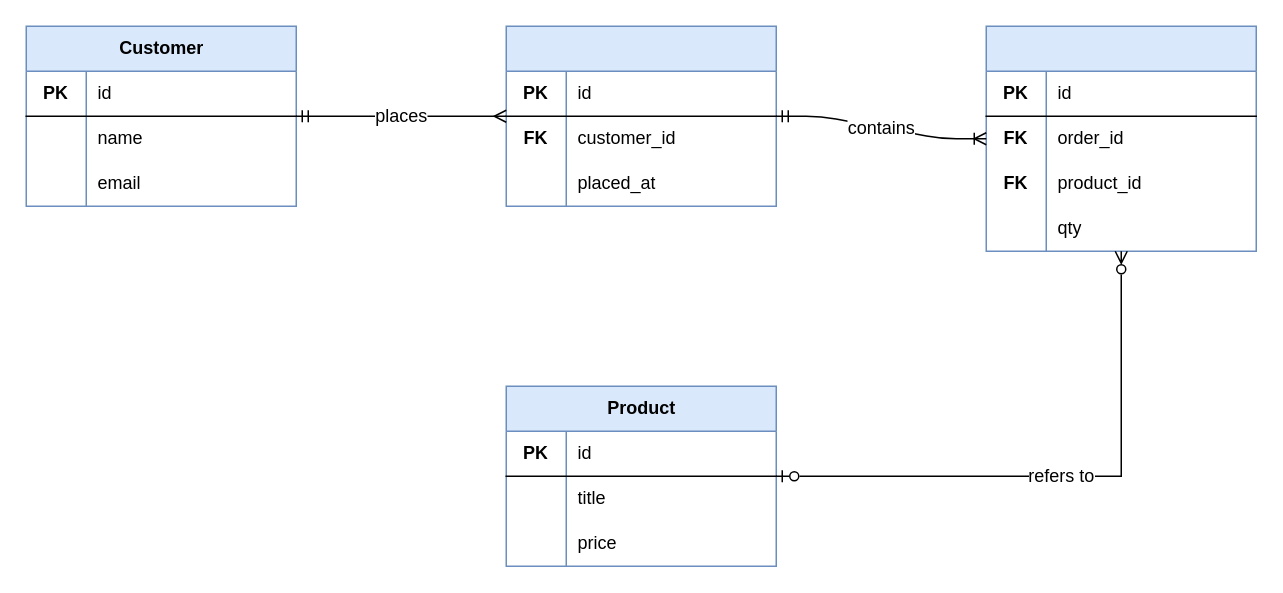
Some shapes in this 1283 by 593 pixel diagram are drawn without their labels. Each missing label, with the box of its shape:
Order: (505, 25, 776, 206)
OrderItem: (985, 25, 1256, 251)
